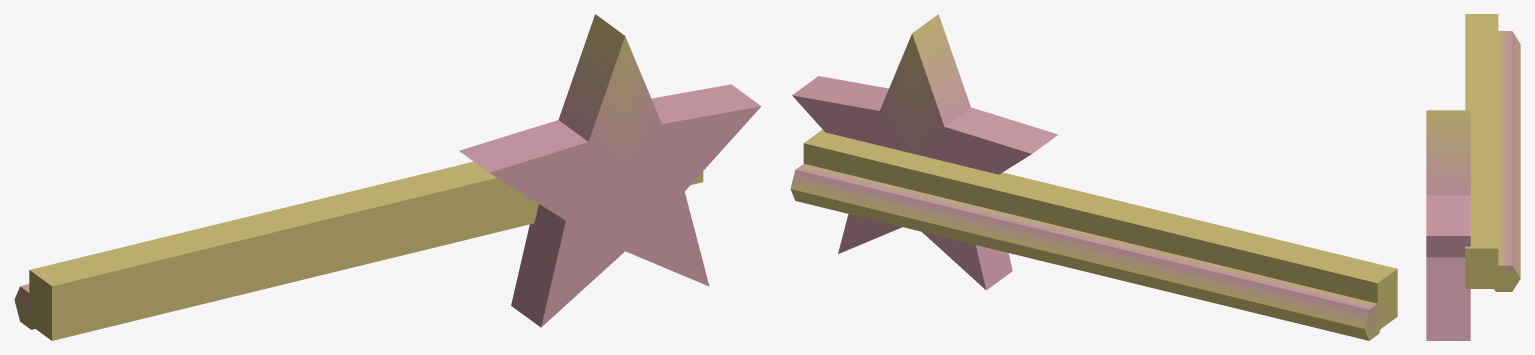
File: acc_hairpin.glb
3 views of the same model, side by side, from view 1: azimuth 30°, elevation 25°; view 2: azimuth 150°, elevation 25°; view 3: azimuth 270°, elevation 25° (orthographic). The views are drawn at different scales.
Parts seen in each view (by area): view 1: acc_hairpin; view 2: acc_hairpin; view 3: acc_hairpin.
Part boxes in pixels (box(x1,y1,x2,y2)): acc_hairpin: box(14, 14, 761, 340); acc_hairpin: box(790, 14, 1397, 340); acc_hairpin: box(1426, 14, 1520, 340).
Size of the model in its own units: 0.0525 by 0.0199 by 0.0085.
